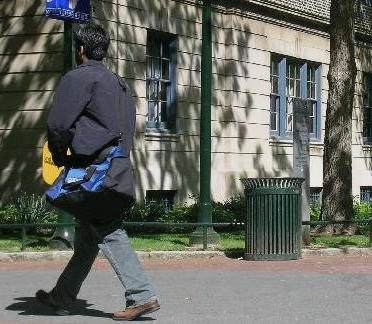pedestrian: (36, 25, 161, 321)
